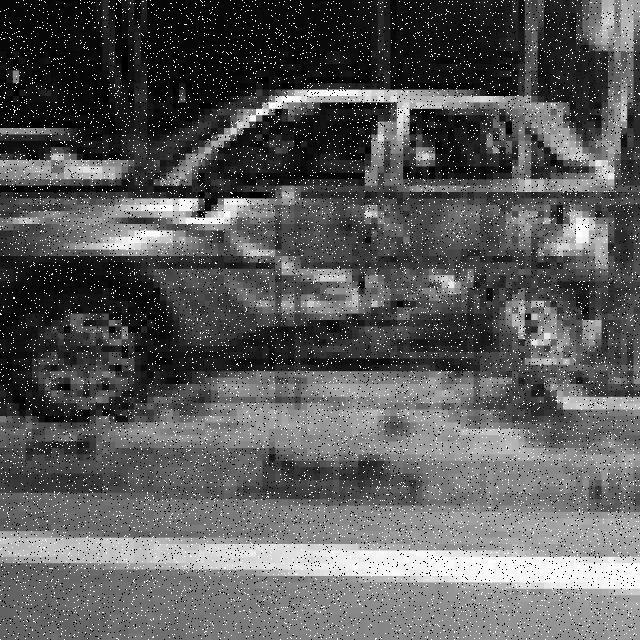doorouter-dent: (179, 193, 371, 340), (372, 193, 513, 340)
